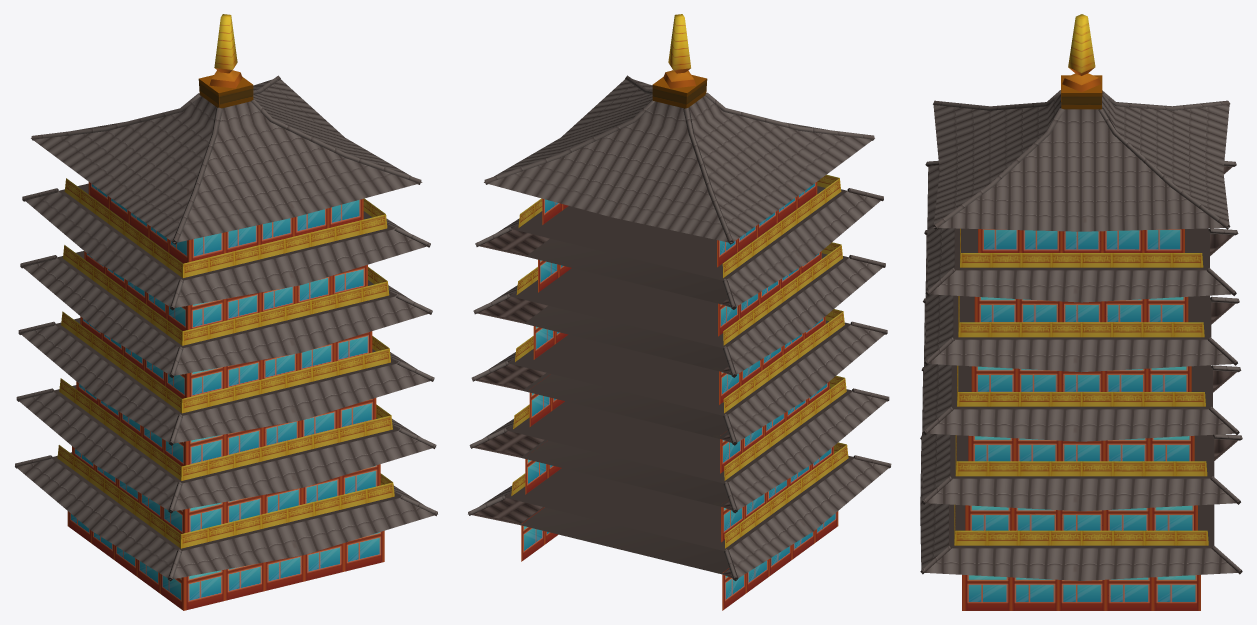
File: Landmark_Joongdo_Tower.fbx
The picture shows the model from 3 angles, left to right: view 1: azimuth 30°, elevation 25°; view 2: azimuth 150°, elevation 25°; view 3: azimuth 270°, elevation 25°; orthographic projection. The views are drawn at different scales.
Visible parts, largest first — view 1: Landmark_Joongdo_Tower; view 2: Landmark_Joongdo_Tower; view 3: Landmark_Joongdo_Tower.
Boxes of the visible parts, <box> form: Landmark_Joongdo_Tower: <box>15,14,437,610</box>; Landmark_Joongdo_Tower: <box>468,14,891,610</box>; Landmark_Joongdo_Tower: <box>920,14,1242,610</box>.
Bounding box in the file's own units: 3016 × 5622 × 3022.
